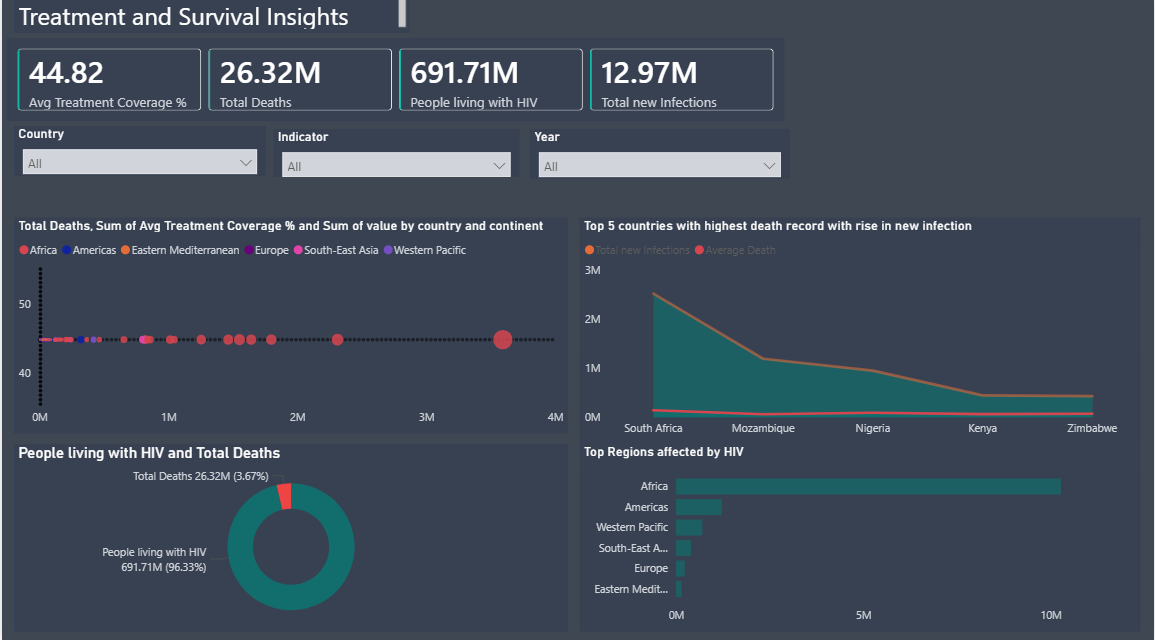

Layout of this report page (visuals, bound fields, positions):
{"tool":"powerbi","page":{"name":"Treatment & Survival","canvas":[1280,720],"ordinal":1},"visuals":[{"type":"cardVisual","fields":{"Data":["Sum(All measures.Treatment Coverage)","All measures.Total Deaths","All measures.People living with HIV","All measures.Total new Infections"]},"box":[0,43.3,875,103.3],"z":0},{"type":"clusteredBarChart","title":"Top Regions affected by HIV","fields":{"Category":["LocationDim.continent"],"Y":["All measures.Total new Infections"]},"box":[641.7,500,623.3,208.3],"z":4000},{"type":"textbox","box":[13.2,0,440.3,43.5],"z":5000},{"type":"scatterChart","fields":{"X":["All measures.Total Deaths"],"Y":["Sum(All measures.Avg Treatment Coverage %)"],"Category":["LocationDim.country"],"Size":["Sum(FactTable.value)"],"Series":["LocationDim.continent"]},"box":[13.3,248.3,615,240],"z":5001},{"type":"lineChart","title":"Top 5 countries with highest death record with rise in new infection","fields":{"Y":["All measures.Total new Infections","All measures.Average Death"],"Category":["LocationDim.country"]},"box":[641.7,248.3,623.3,251.7],"z":5002},{"type":"donutChart","fields":{"Y":["All measures.People living with HIV","All measures.Total Deaths"]},"box":[13.3,500,615,208.3],"z":5003},{"type":"slicer","title":"Country","fields":{"Values":["LocationDim.country"]},"box":[13.3,146.7,280,55],"z":5004},{"type":"slicer","title":"Indicator","fields":{"Values":["IndicatorDim.indicator"]},"box":[301.7,150,273.3,53.3],"z":5005},{"type":"slicer","title":"Year","fields":{"Values":["YearDim.year"]},"box":[586.7,150,288.3,55],"z":5006}]}

Visuals, with their boxes in screenshot pixels (x1, y1, x2, y2), scaled from the page's 1280x720 canvas onto the 1155x640 screenshot:
cardVisual - Sum(All measures.Treatment Coverage) x All measures.Total Deaths: (0,38,790,130)
"Top Regions affected by HIV" clusteredBarChart: (579,444,1141,630)
textbox: (12,0,409,39)
scatterChart - All measures.Total Deaths x Sum(All measures.Avg Treatment Coverage %): (12,221,567,434)
"Top 5 countries with highest death record with rise in new infection" lineChart: (579,221,1141,444)
donutChart - All measures.People living with HIV x All measures.Total Deaths: (12,444,567,630)
"Country" slicer: (12,130,265,179)
"Indicator" slicer: (272,133,519,181)
"Year" slicer: (529,133,790,182)
